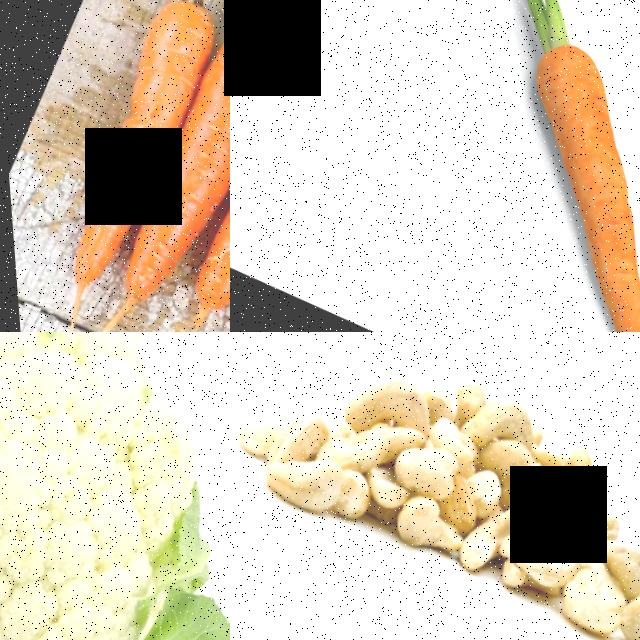carrot: (266, 0, 640, 332), (0, 0, 230, 332), (61, 0, 230, 332), (143, 0, 230, 332), (172, 44, 230, 332)
cashew: (420, 497, 529, 616), (233, 437, 342, 544), (333, 360, 442, 464), (498, 514, 593, 611), (444, 373, 540, 467), (384, 432, 472, 525), (234, 385, 326, 473), (310, 410, 395, 488), (577, 527, 640, 612), (547, 577, 622, 640), (534, 476, 598, 544), (502, 455, 562, 513), (601, 592, 640, 640)
cauliflower: (0, 332, 230, 640)
